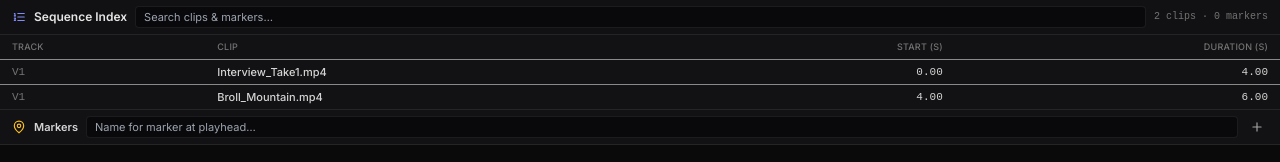
Test case: R24.7 — SequenceIndex › filters rows by search query
In the field named "Search sequence": (640, 17) [135,6,1146,28], type "broll"
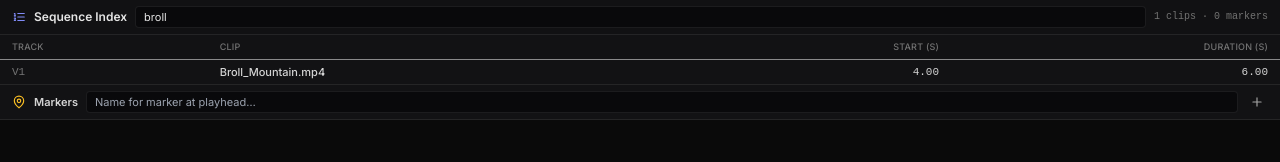
Check: the text "Broll_Mountain.mp4" is shown, box [208,60,691,84]
Check: the text "Interview_Take1.mp4" is gone
